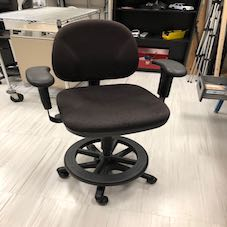chair: (31, 16, 197, 199)
